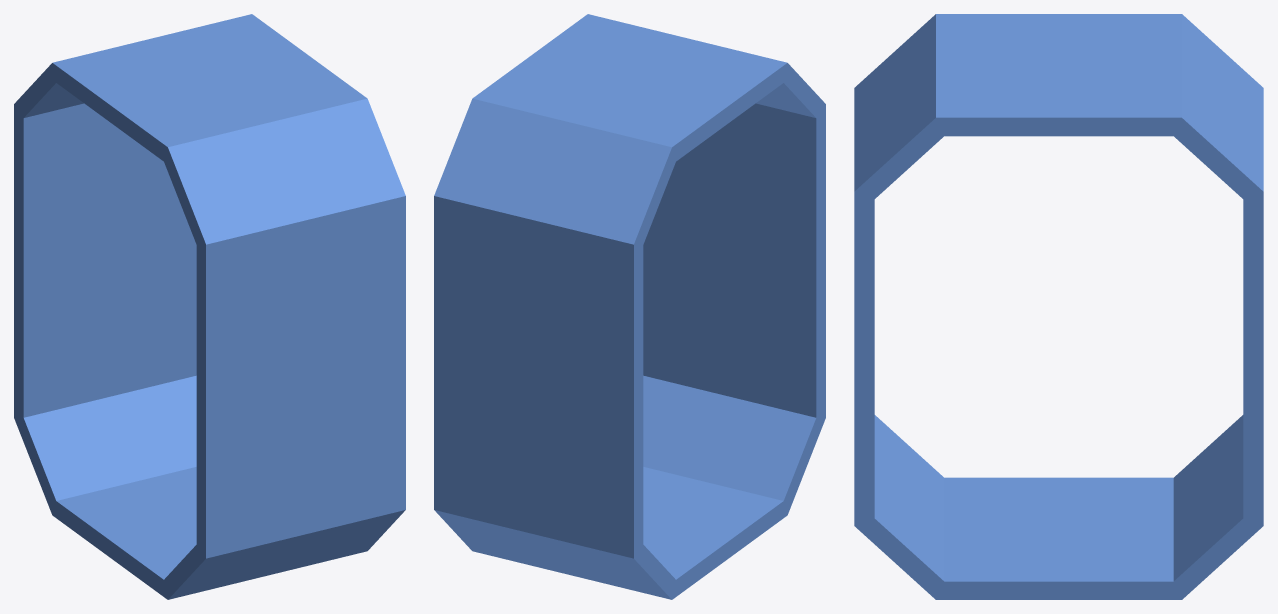
Rendered from Small corridor TFB.fbx.
3 views of the same model, side by side, from view 1: azimuth 30°, elevation 25°; view 2: azimuth 150°, elevation 25°; view 3: azimuth 270°, elevation 25° (orthographic). The views are drawn at different scales.
Parts seen in each view (by area): view 1: Cube; view 2: Cube; view 3: Cube.
Part boxes in pixels (x1,y1,x2,y2): Cube: [14, 14, 405, 599]; Cube: [434, 14, 825, 599]; Cube: [854, 14, 1263, 599].
Size of the model in its own units: 4 by 6.66 by 8.66.
